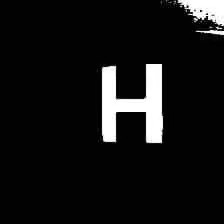LTR_H: (91, 56, 173, 153)
